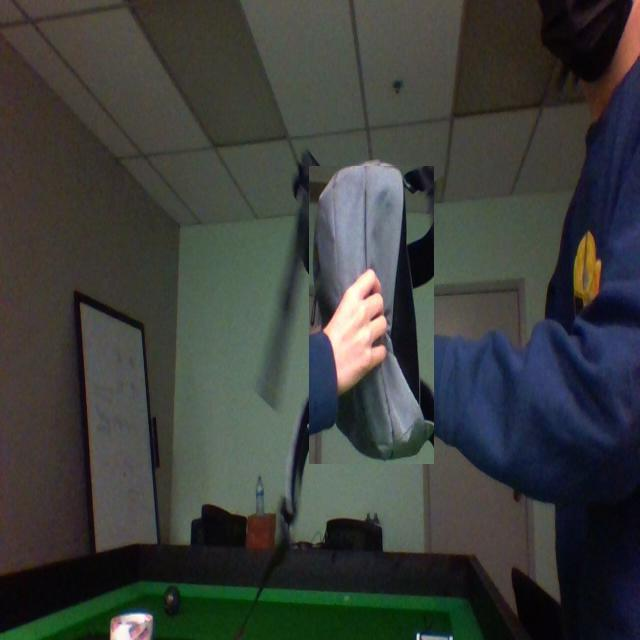Backpacks: (309, 166, 435, 465)
